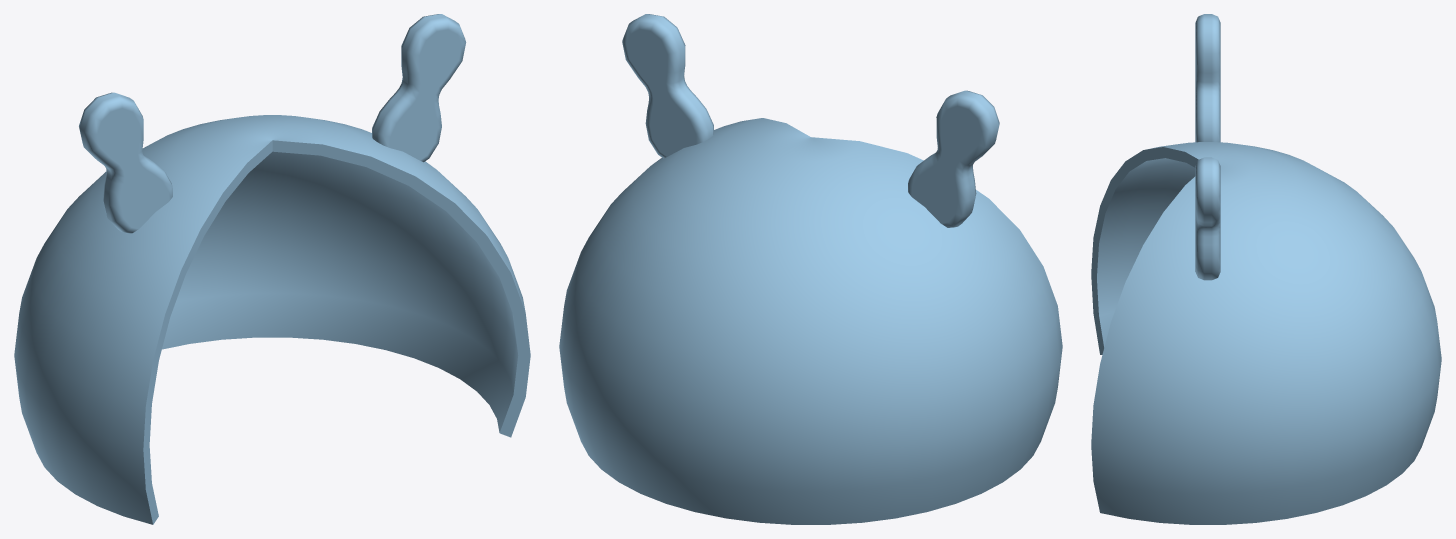
The model's file is bunny_hood.glb.
3 renders of one model, left to right at view 1: azimuth 30°, elevation 25°; view 2: azimuth 150°, elevation 25°; view 3: azimuth 270°, elevation 25°, orthographic. The views are drawn at different scales.
Parts seen in each view (by area): view 1: bunny_hood_Head; view 2: bunny_hood_Head; view 3: bunny_hood_Head.
Part boxes in pixels (x1,y1,x2,y2): bunny_hood_Head: [14, 14, 530, 524]; bunny_hood_Head: [559, 14, 1062, 524]; bunny_hood_Head: [1091, 14, 1441, 524].
Bounding box in the file's own units: 0.7379 × 0.6028 × 0.555.
